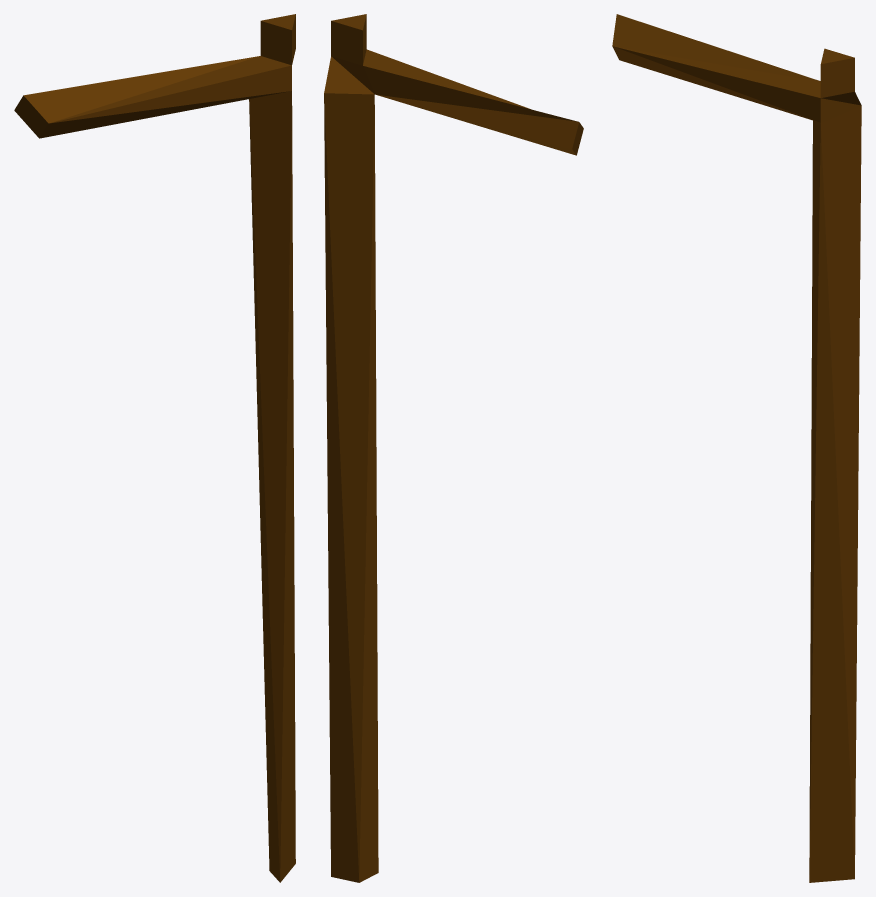
Rendered from telephonePole.fbx.
3 views of the same model, side by side, from view 1: azimuth 30°, elevation 25°; view 2: azimuth 150°, elevation 25°; view 3: azimuth 330°, elevation 25° (orthographic). The views are drawn at different scales.
Parts seen in each view (by area): view 1: telephonePole; view 2: telephonePole; view 3: telephonePole.
Part boxes in pixels (bbox=[...]): telephonePole: bbox=[14, 14, 295, 882]; telephonePole: bbox=[324, 14, 583, 882]; telephonePole: bbox=[612, 14, 861, 882].
Size of the model in its own units: 5.37 by 16.74 by 1.32.
